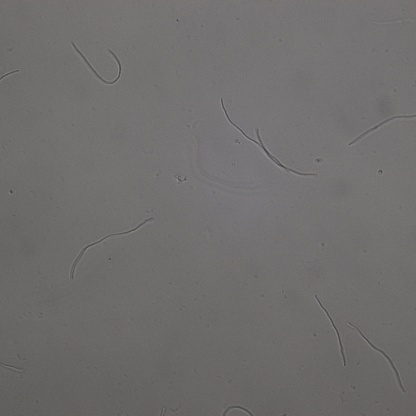Sensitive: (221, 97, 317, 176), (69, 218, 151, 280), (351, 324, 405, 392), (71, 41, 122, 85), (348, 111, 416, 144), (316, 295, 347, 366)
